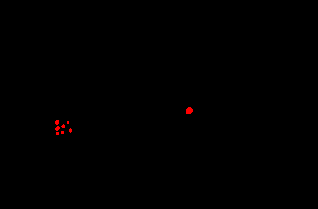Target: (186, 107, 193, 114), (55, 126, 60, 131), (55, 120, 59, 125), (61, 124, 65, 128), (69, 128, 72, 133), (61, 131, 64, 134), (56, 132, 59, 135), (67, 121, 69, 124)
